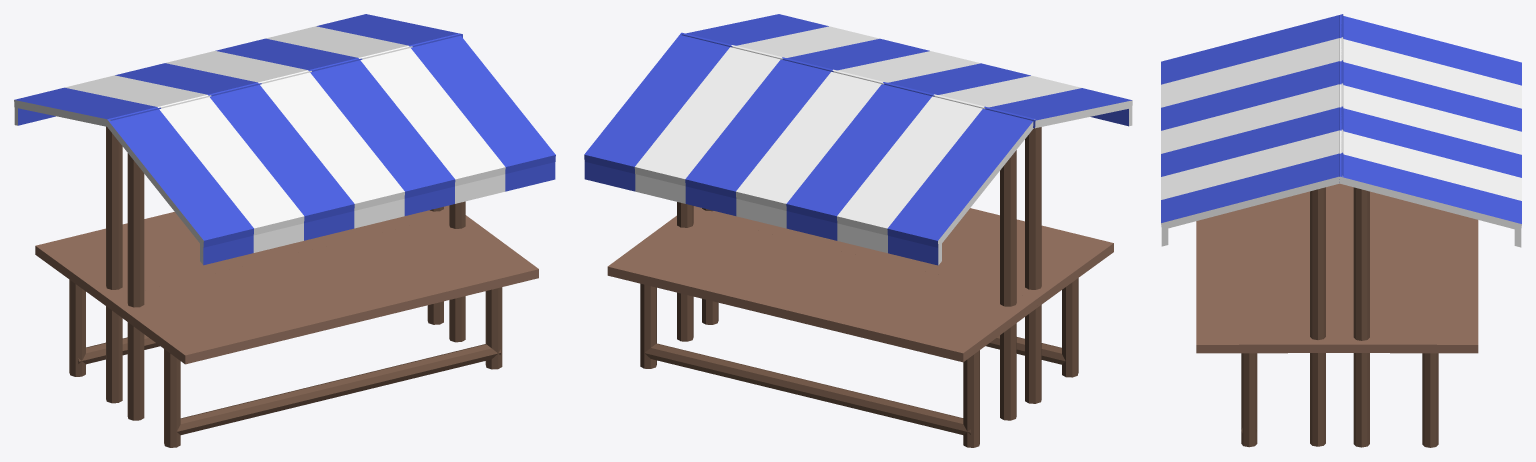
The model's file is bazaar-item-06.obj.
3 views of the same model, side by side, from view 1: azimuth 30°, elevation 25°; view 2: azimuth 150°, elevation 25°; view 3: azimuth 270°, elevation 25° (orthographic). The views are drawn at different scales.
Parts seen in each view (by area): view 1: bazaar-item-06; view 2: bazaar-item-06; view 3: bazaar-item-06.
Part boxes in pixels (x1=…): bazaar-item-06: x1=14, y1=14, x2=555, y2=447; bazaar-item-06: x1=584, y1=14, x2=1132, y2=447; bazaar-item-06: x1=1161, y1=14, x2=1521, y2=447.
Size of the model in its own units: 1.89 by 1.49 by 1.78.
